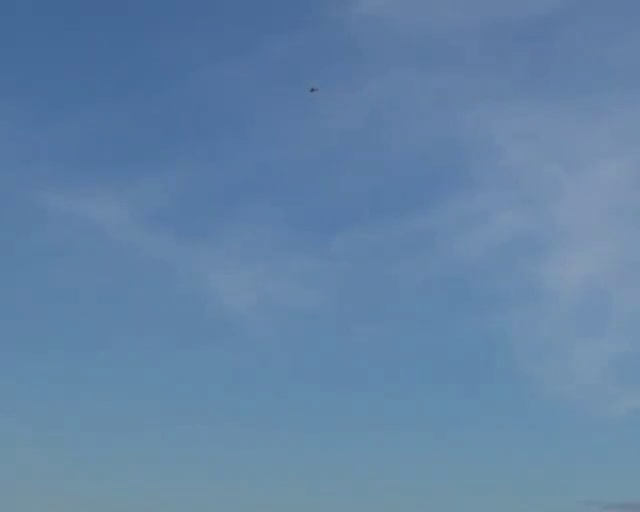AIRPLANE: (302, 136, 356, 160)
